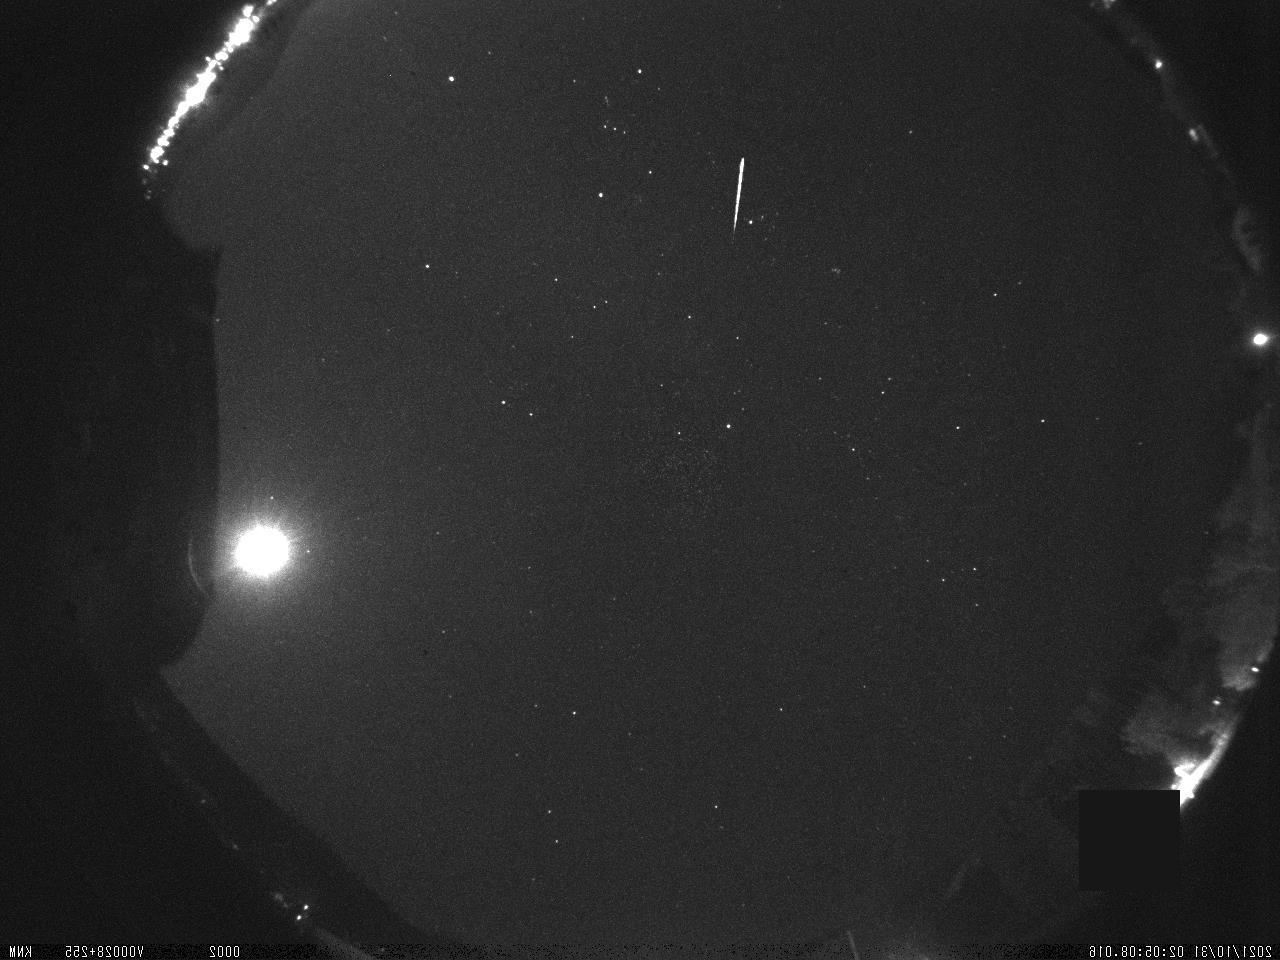meteor: (704, 143, 760, 256)
